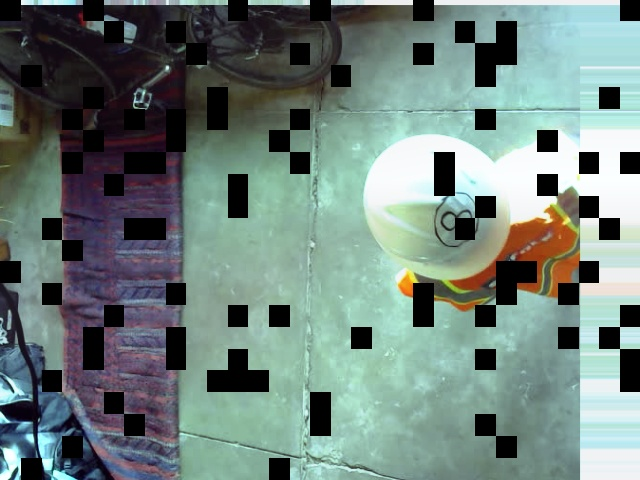eight: (432, 189, 476, 248)
